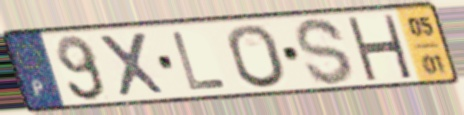9: (55, 32, 111, 104)
H: (343, 14, 415, 81)
L: (168, 30, 230, 93)
O: (224, 22, 290, 90)
S: (292, 15, 357, 88)
X: (94, 29, 171, 99)
